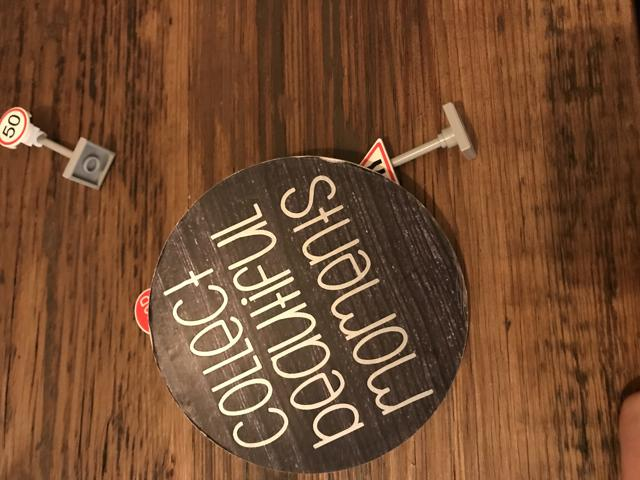stop: (133, 285, 166, 335)
tempolimit 50: (1, 106, 32, 149)
verengte fahrbahn: (354, 140, 399, 191)
